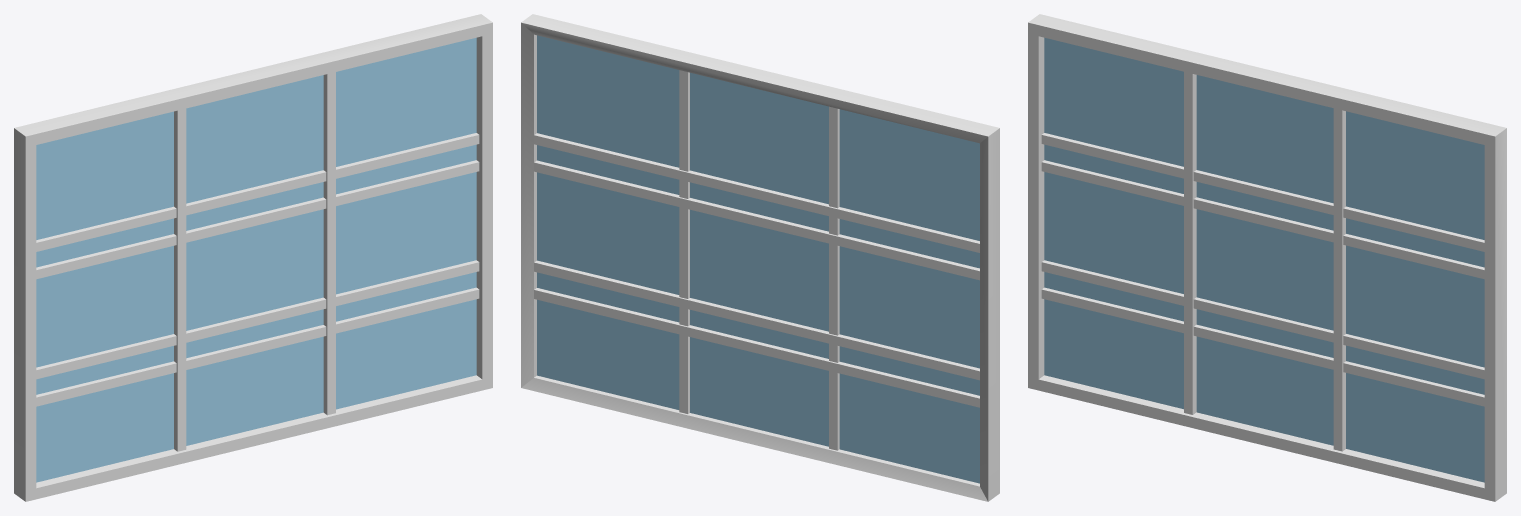
The model's file is window_028.glb.
The picture shows the model from 3 angles, left to right: view 1: azimuth 30°, elevation 25°; view 2: azimuth 150°, elevation 25°; view 3: azimuth 330°, elevation 25°; orthographic projection.
Parts seen in each view (by area): view 1: window_028; view 2: window_028; view 3: window_028.
Boxes of the visible parts, left/top/right/bottom form: window_028: left=14, top=14, right=492, bottom=501; window_028: left=521, top=14, right=999, bottom=501; window_028: left=1028, top=14, right=1506, bottom=501.
Bounding box in the file's own units: 3.08 × 2.3 × 0.1339.
1 material, 1 textured.
